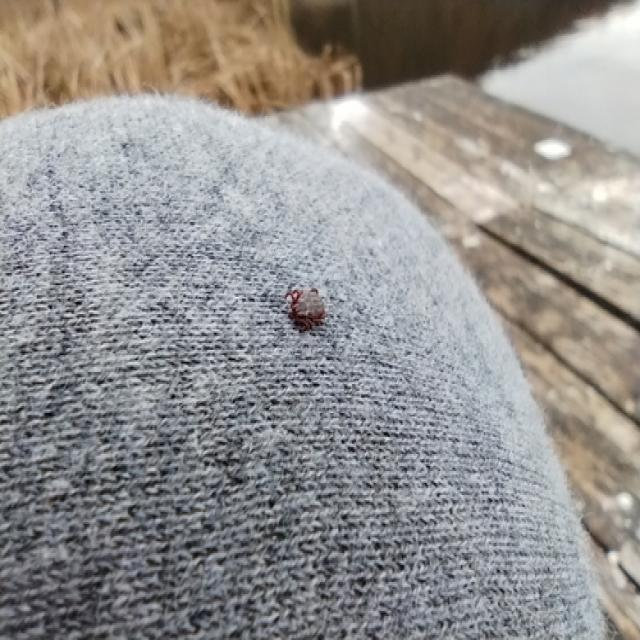Dermacentor Reticulatus-M: (283, 283, 329, 336)
